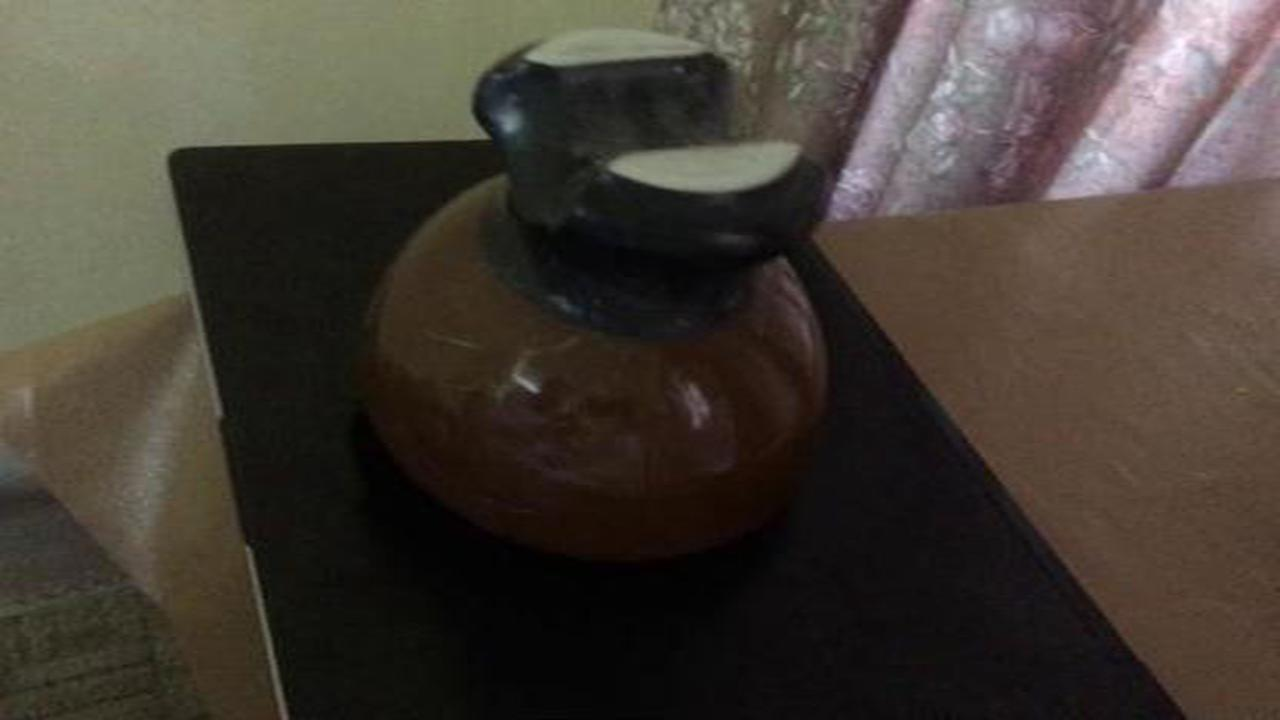insulator_pin: (321, 13, 859, 584)
